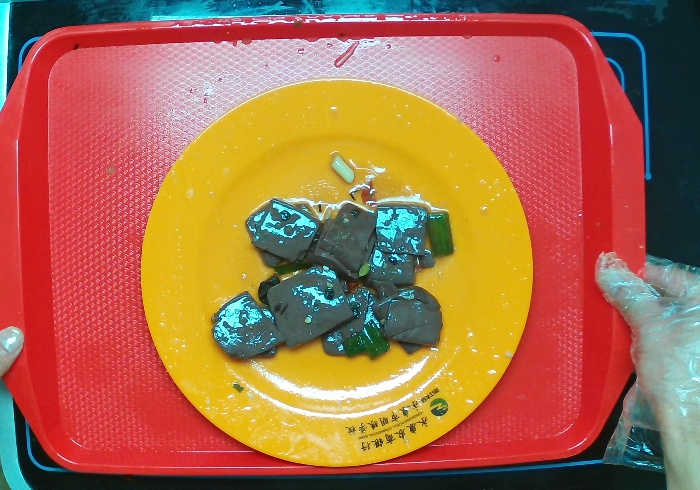YKMZ-Ju_Se_Mian_Pan: (139, 76, 535, 468)
